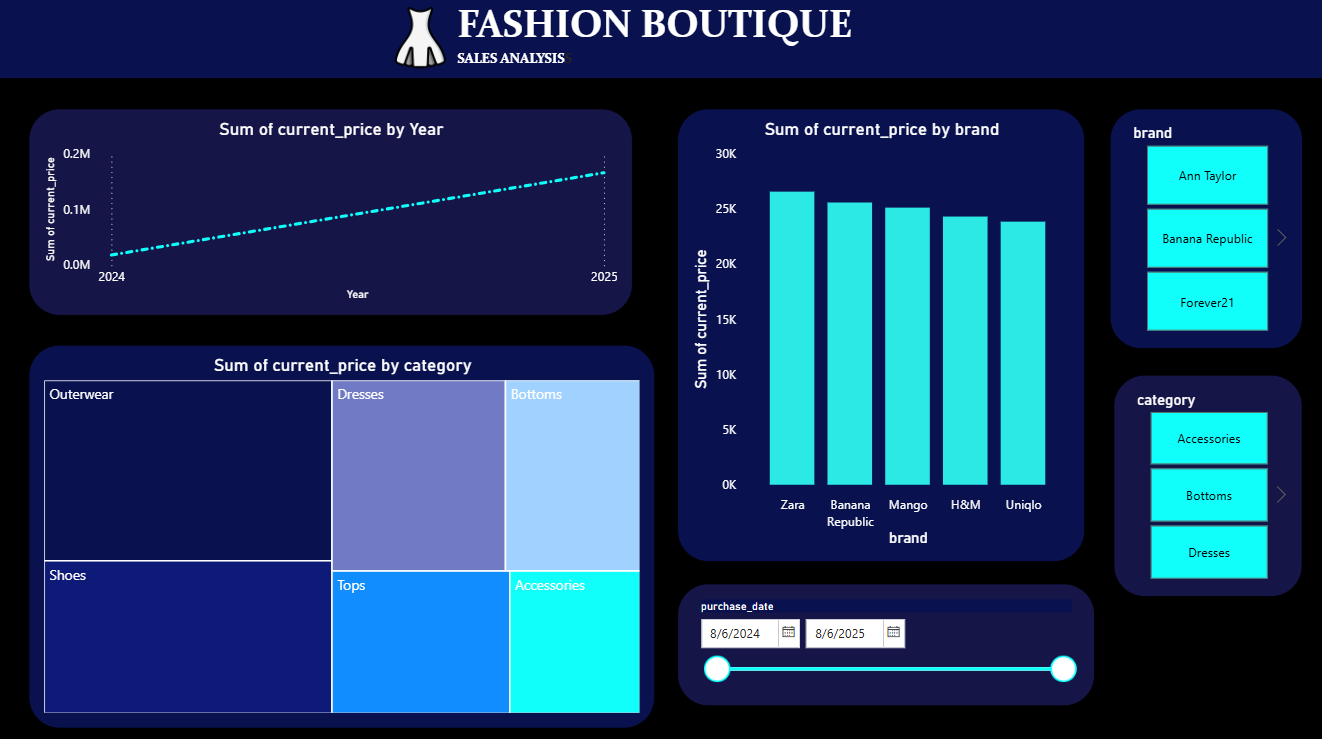

Layout of this report page (visuals, bound fields, positions):
{"tool":"powerbi","page":{"name":"SALES ANALYSIS","canvas":[1280,720],"ordinal":1},"visuals":[{"type":"textbox","box":[0,0,1280.3,79.6],"z":0},{"type":"lineChart","fields":{"Category":["Fashion_boutique.purchase_date.Variation.Date Hierarchy.Year","Fashion_boutique.purchase_date.Variation.Date Hierarchy.Quarter","Fashion_boutique.purchase_date.Variation.Date Hierarchy.Month","Fashion_boutique.purchase_date.Variation.Date Hierarchy.Day"],"Y":["Sum(Fashion_boutique.current_price)"]},"box":[31.6,108.4,583.2,200.3],"z":1000},{"type":"treemap","fields":{"Values":["Sum(Fashion_boutique.current_price)"],"Group":["Fashion_boutique.category"]},"box":[31.6,336.2,605.1,370.5],"z":2000},{"type":"columnChart","fields":{"Category":["Fashion_boutique.brand"],"Y":["Sum(Fashion_boutique.current_price)"]},"box":[657.3,108.4,393.8,437.7],"z":3000},{"type":"slicer","fields":{"Values":["Fashion_boutique.purchase_date"]},"box":[657.3,566.7,403.4,118],"z":4000},{"type":"slicer","fields":{"Values":["Fashion_boutique.category"]},"box":[1078.6,365,182.5,214.1],"z":5000},{"type":"slicer","fields":{"Values":["Fashion_boutique.brand"]},"box":[1074.4,108.4,186.6,231.9],"z":6000},{"type":"image","box":[364.3,9.7,90.5,60.3],"z":7000}]}

Visuals, with their boxes in screenshot pixels (x1, y1, x2, y2), scaled from the page's 1280x720 canvas onto the 1322x739 screenshot:
textbox: region(0, 0, 1321, 82)
lineChart - Fashion_boutique.purchase_date.Variation.Date Hierarchy.Year x Fashion_boutique.purchase_date.Variation.Date Hierarchy.Quarter: region(33, 111, 635, 317)
treemap - Sum(Fashion_boutique.current_price) x Fashion_boutique.category: region(33, 345, 658, 725)
columnChart - Fashion_boutique.brand x Sum(Fashion_boutique.current_price): region(679, 111, 1086, 561)
slicer - Fashion_boutique.purchase_date: region(679, 582, 1096, 703)
slicer - Fashion_boutique.category: region(1114, 375, 1302, 594)
slicer - Fashion_boutique.brand: region(1110, 111, 1302, 349)
image: region(376, 10, 470, 72)
